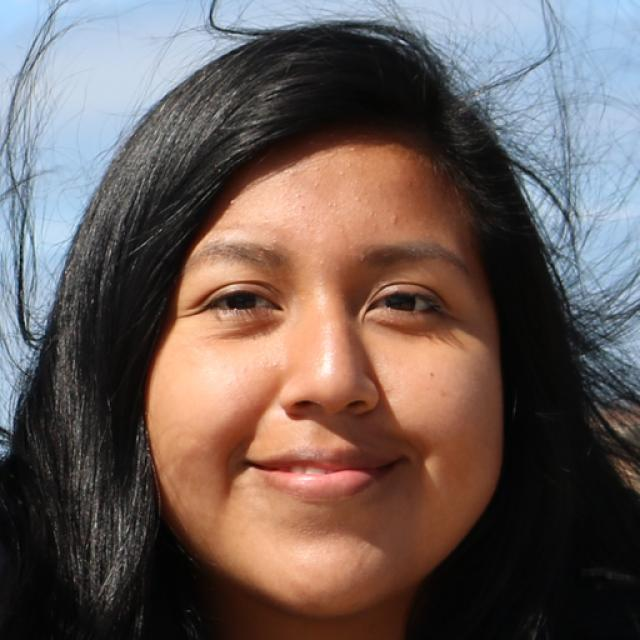Acne: (349, 248, 372, 266), (281, 164, 304, 181), (290, 189, 307, 205), (385, 209, 401, 225), (308, 175, 323, 191), (310, 160, 326, 175), (349, 191, 364, 206), (312, 256, 328, 269), (323, 198, 340, 210), (333, 163, 347, 177), (267, 356, 281, 369)
